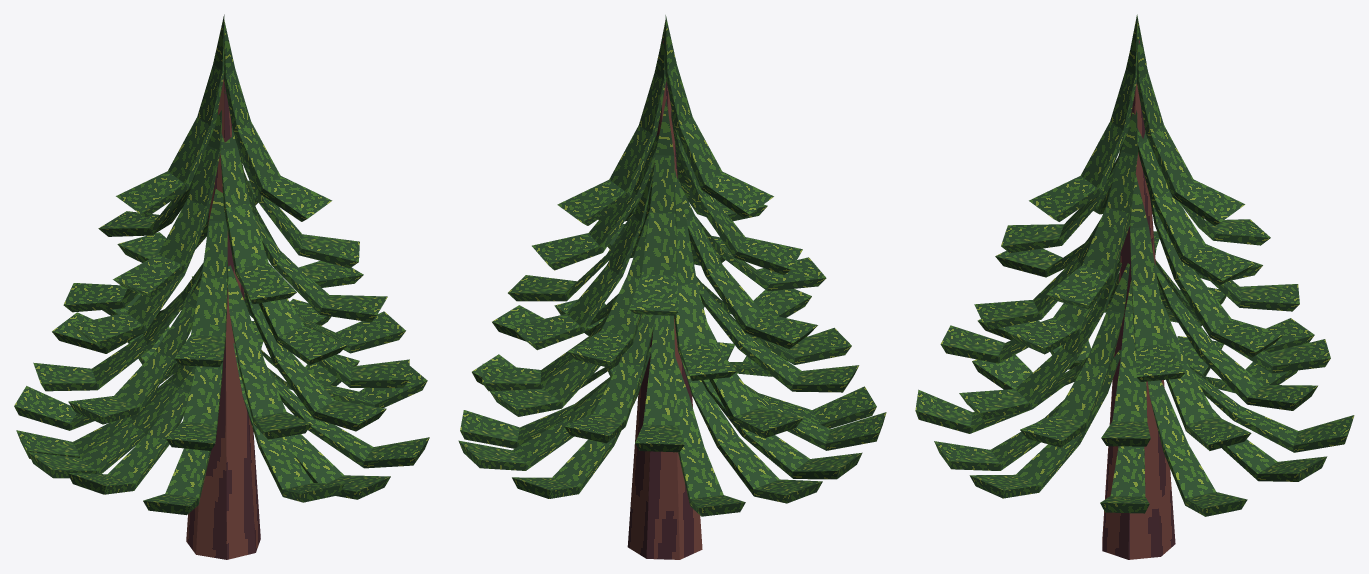
Rendered from Tree.glb.
3 views of the same model, side by side, from view 1: azimuth 30°, elevation 25°; view 2: azimuth 150°, elevation 25°; view 3: azimuth 270°, elevation 25° (orthographic).
Parts seen in each view (by area): view 1: Leaves 4, Leaves 5 Bottom, Leaves 3, Leaves 2, Trunk, Leaves 1 Top; view 2: Leaves 5 Bottom, Leaves 4, Leaves 3, Leaves 2, Leaves 1 Top, Trunk; view 3: Leaves 4, Leaves 5 Bottom, Leaves 3, Leaves 2, Leaves 1 Top, Trunk.
Boxes of the visible parts, x1=… form: Leaves 4: x1=33, y1=262, x2=409, y2=450; Leaves 5 Bottom: x1=14, y1=321, x2=429, y2=515; Leaves 3: x1=63, y1=183, x2=387, y2=367; Leaves 2: x1=98, y1=91, x2=359, y2=304; Trunk: x1=186, y1=79, x2=260, y2=559; Leaves 1 Top: x1=116, y1=14, x2=332, y2=221; Leaves 5 Bottom: x1=458, y1=336, x2=886, y2=516; Leaves 4: x1=482, y1=276, x2=859, y2=452; Leaves 3: x1=508, y1=165, x2=826, y2=380; Leaves 2: x1=532, y1=99, x2=802, y2=315; Leaves 1 Top: x1=557, y1=15, x2=773, y2=225; Trunk: x1=627, y1=40, x2=702, y2=559; Leaves 4: x1=940, y1=257, x2=1330, y2=450; Leaves 5 Bottom: x1=915, y1=336, x2=1354, y2=516; Leaves 3: x1=974, y1=174, x2=1299, y2=381; Leaves 2: x1=1001, y1=110, x2=1270, y2=309; Leaves 1 Top: x1=1029, y1=14, x2=1245, y2=225; Trunk: x1=1102, y1=40, x2=1175, y2=559.
Size of the model in its own units: 3.7 by 5.04 by 3.78.
Materials: 2 (2 with a texture image).
